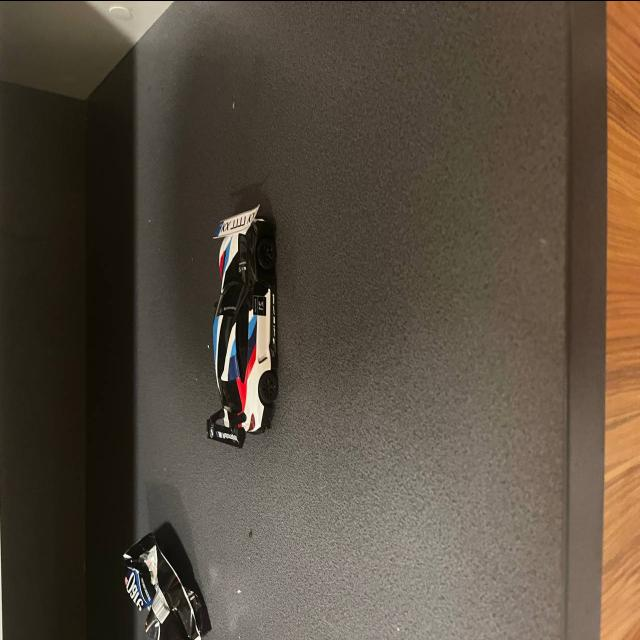cars: (202, 184, 280, 459)
